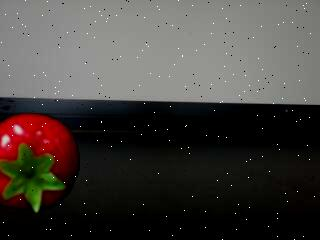Tomato: (0, 112, 81, 215)
